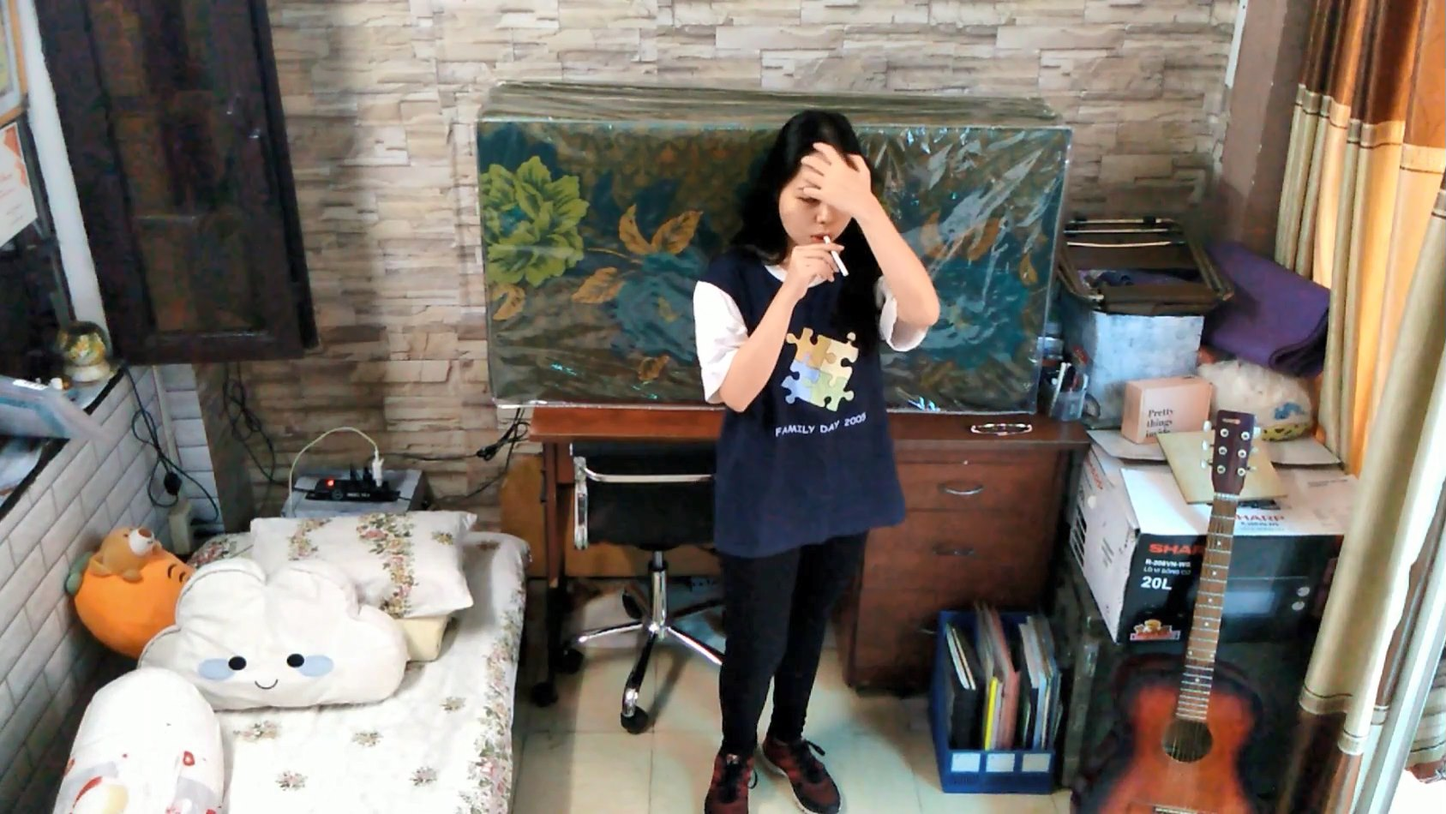cigarette: (817, 226, 858, 288)
person: (684, 75, 953, 814)
